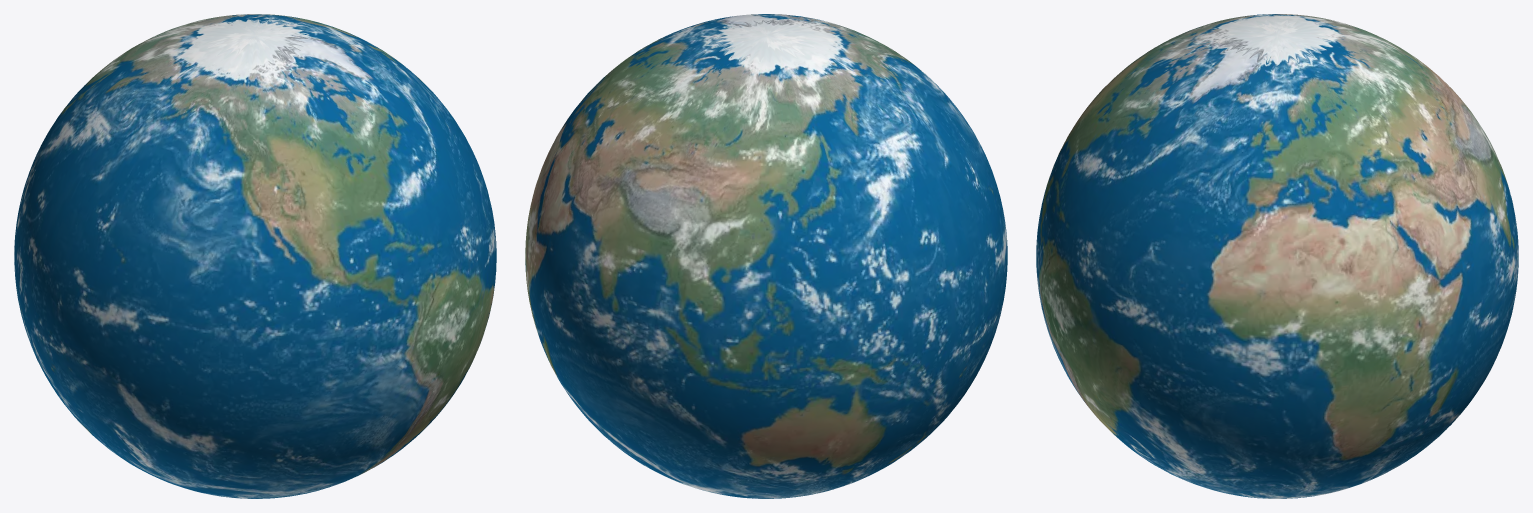
Rendered from EarthNoShadow-transformed.glb.
3 renders of one model, left to right at view 1: azimuth 30°, elevation 25°; view 2: azimuth 150°, elevation 25°; view 3: azimuth 270°, elevation 25°, orthographic.
Parts seen in each view (by area): view 1: Sphere; view 2: Sphere; view 3: Sphere.
Part boxes in pixels (x1=…): Sphere: x1=14, y1=14, x2=496, y2=498; Sphere: x1=525, y1=14, x2=1007, y2=498; Sphere: x1=1036, y1=14, x2=1518, y2=498.
Bounding box in the file's own units: 2.23 × 2.25 × 2.23.
1 material, 1 textured.
